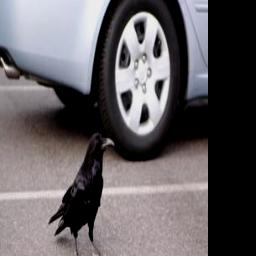Crow: (47, 127, 114, 256)
